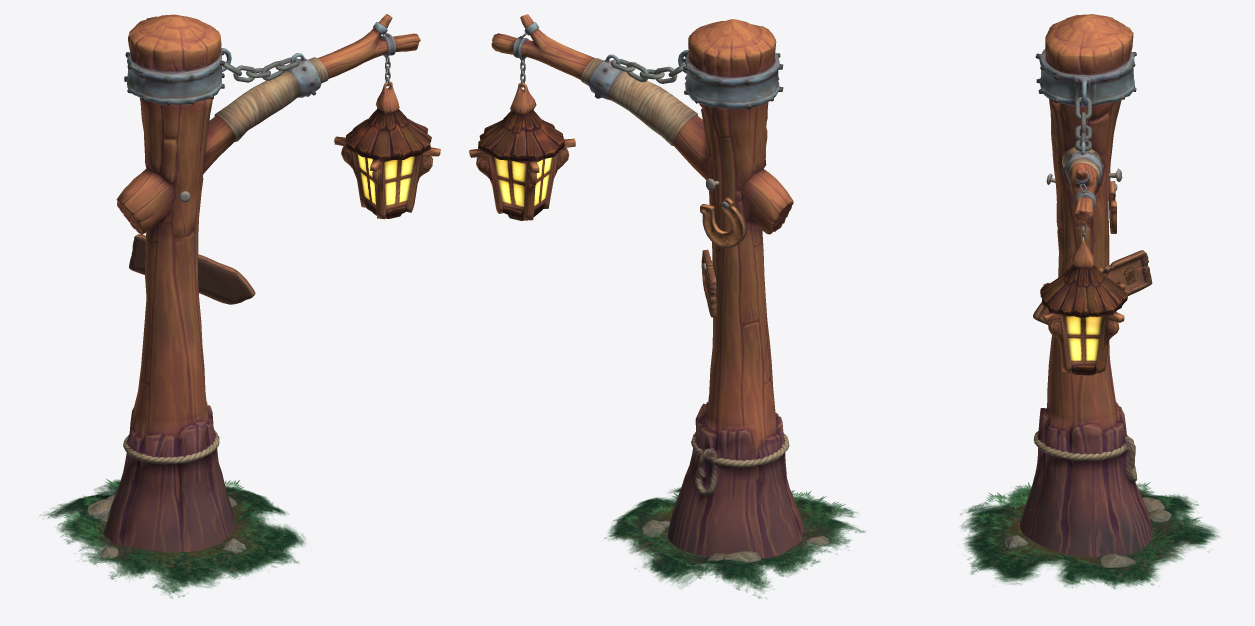
File: welcome_lamp.glb
3 renders of one model, left to right at view 1: azimuth 30°, elevation 25°; view 2: azimuth 150°, elevation 25°; view 3: azimuth 270°, elevation 25°, orthographic.
Parts seen in each view (by area): view 1: LampPost_NewUV, Ground, Lantern, Sign, Grass, Chains; view 2: LampPost_NewUV, Ground, Lantern, Grass, Horseshoe, Chains, Sign; view 3: LampPost_NewUV, Ground, Lantern, Grass, Sign, Chains.
Boxes of the visible parts, x1=… form: LampPost_NewUV: x1=103, y1=14, x2=420, y2=551; Ground: x1=40, y1=479, x2=305, y2=598; Lantern: x1=334, y1=81, x2=440, y2=219; Sign: x1=129, y1=234, x2=255, y2=304; Grass: x1=62, y1=478, x2=287, y2=571; Chains: x1=223, y1=32, x2=390, y2=86; LampPost_NewUV: x1=491, y1=14, x2=803, y2=558; Ground: x1=604, y1=487, x2=865, y2=598; Lantern: x1=469, y1=82, x2=575, y2=220; Grass: x1=623, y1=490, x2=845, y2=567; Horseshoe: x1=700, y1=197, x2=745, y2=247; Chains: x1=520, y1=33, x2=685, y2=87; Sign: x1=701, y1=249, x2=716, y2=317; LampPost_NewUV: x1=1020, y1=14, x2=1152, y2=557; Ground: x1=960, y1=485, x2=1219, y2=589; Lantern: x1=1040, y1=237, x2=1127, y2=375; Grass: x1=975, y1=482, x2=1202, y2=565; Sign: x1=1033, y1=250, x2=1152, y2=324; Chains: x1=1075, y1=97, x2=1091, y2=240.
Bounding box in the file's own units: 3.22 × 4.15 × 2.22.
Materials: 8 (8 with a texture image).
